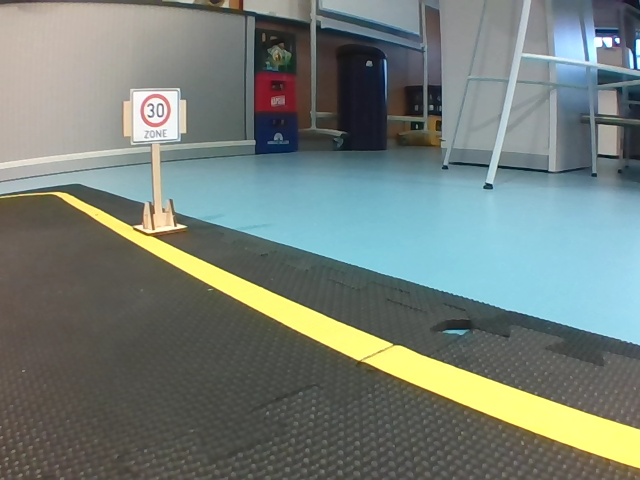30: (49, 124, 72, 150)
stop: (94, 56, 196, 154)
